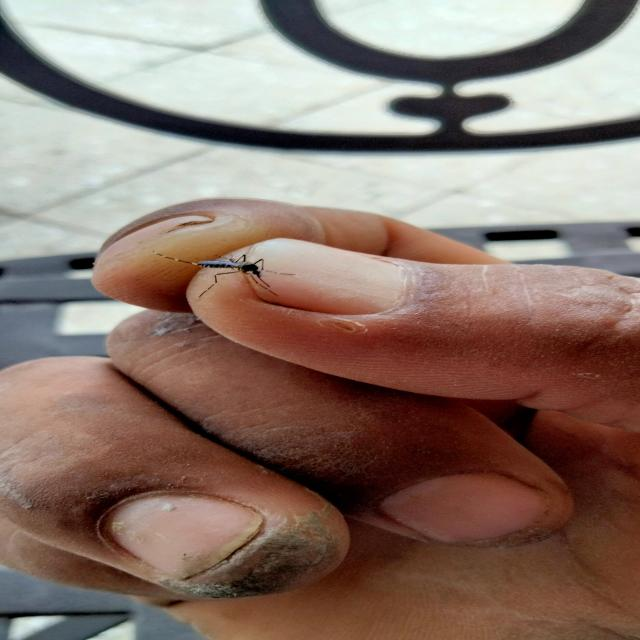albopictus: (144, 242, 306, 302)
